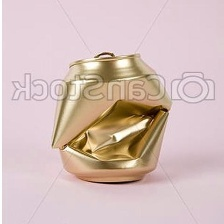can: (50, 50, 171, 187)
